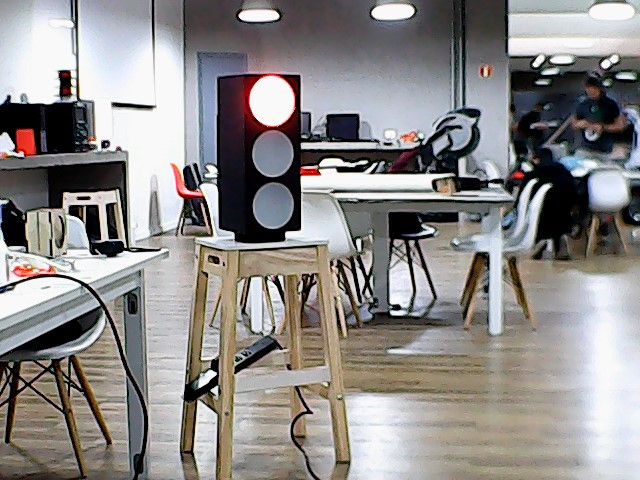vermelho: (214, 69, 309, 236)
